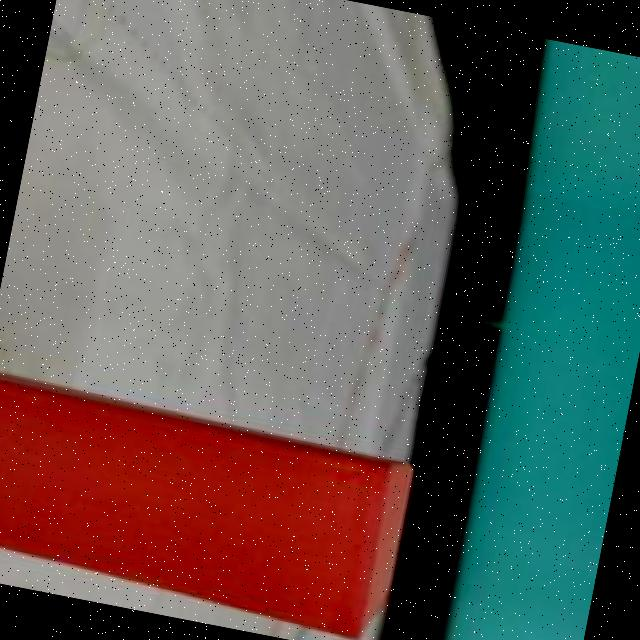redbox: (0, 365, 423, 640)
